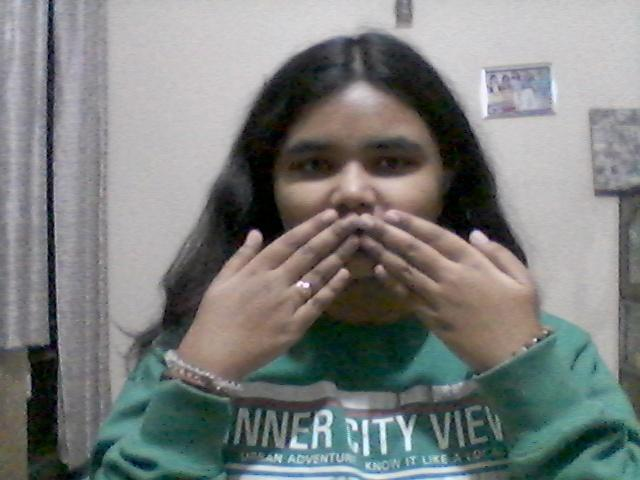thank you: (165, 198, 546, 386)
